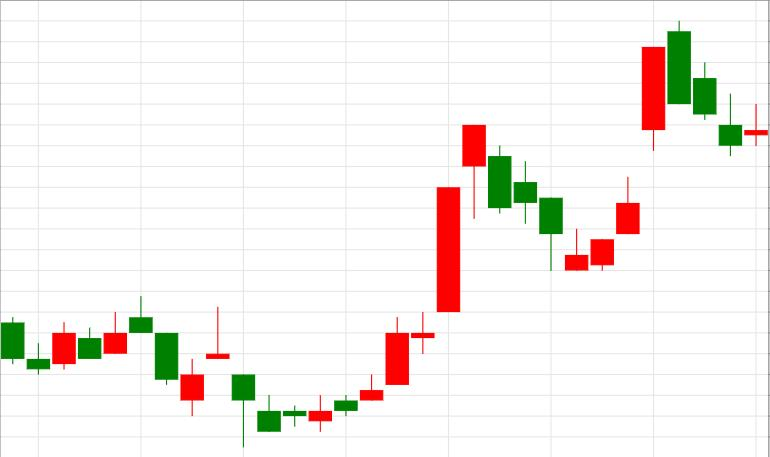hanging_man_fall: (361, 125, 486, 401)
